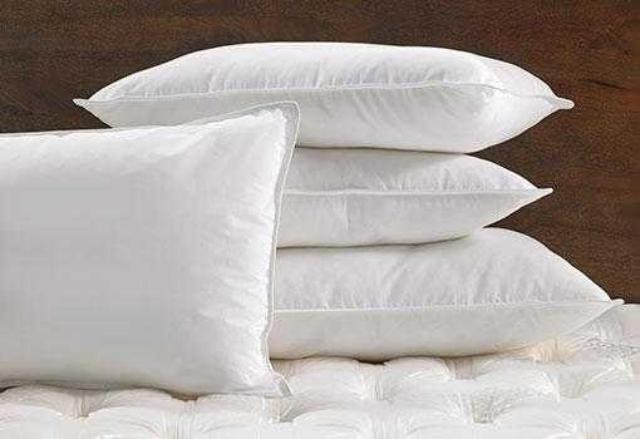pillow: (0, 99, 302, 397), (71, 39, 574, 153)
